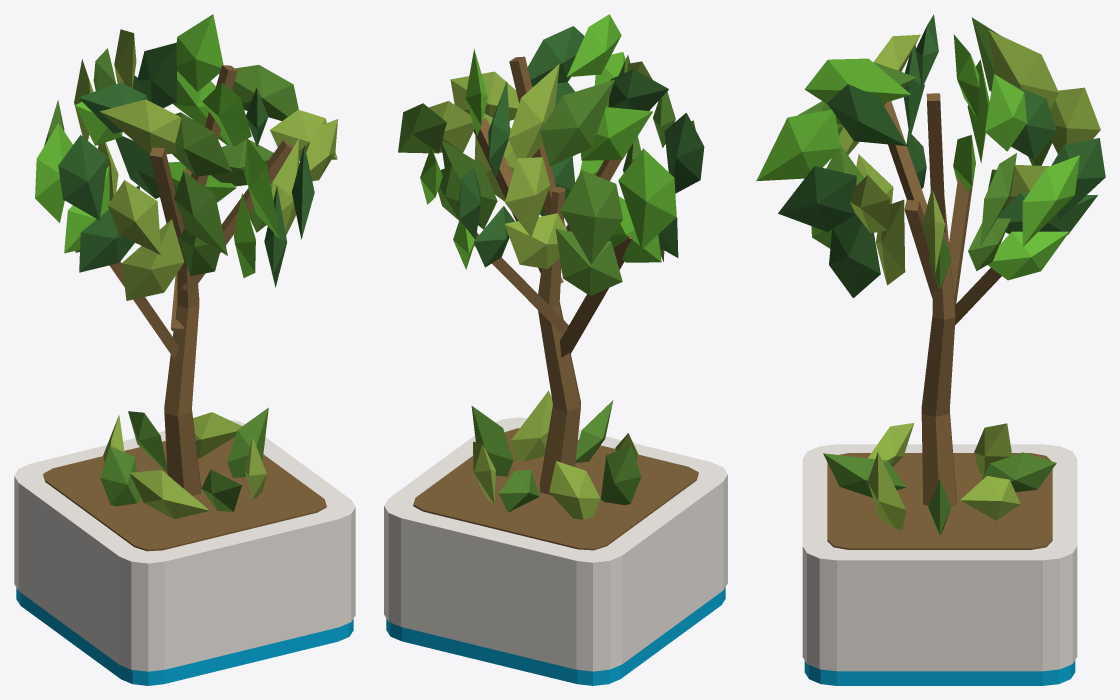
The model's file is tree_planter.glb.
3 views of the same model, side by side, from view 1: azimuth 30°, elevation 25°; view 2: azimuth 150°, elevation 25°; view 3: azimuth 270°, elevation 25° (orthographic). The views are drawn at different scales.
Visible parts, largest first — view 1: frutiger_aero_tree_planter; view 2: frutiger_aero_tree_planter; view 3: frutiger_aero_tree_planter.
Part boxes in pixels (x1=…): frutiger_aero_tree_planter: x1=14, y1=14, x2=355, y2=685; frutiger_aero_tree_planter: x1=384, y1=14, x2=727, y2=685; frutiger_aero_tree_planter: x1=756, y1=14, x2=1105, y2=685.
Bounding box in the file's own units: 1.59 × 3.01 × 1.63.
Materials: 5 (5 with a texture image).
